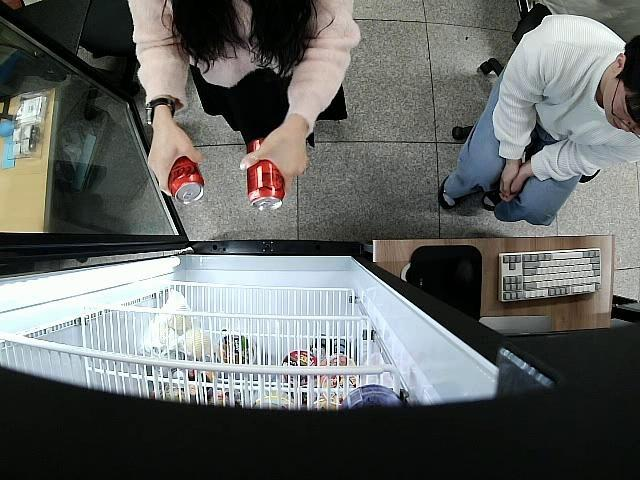11_cocaColaZero: (245, 135, 285, 212), (168, 154, 206, 205)
